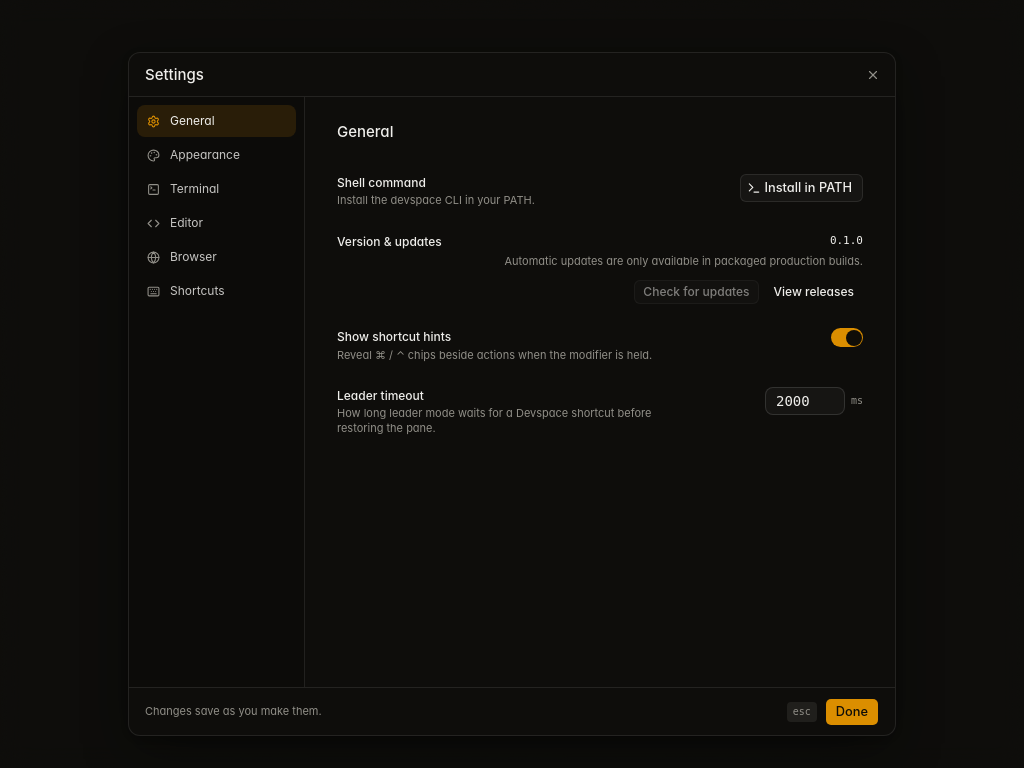
Scenario: shows the resolved VS Code CLI path in settings
Click the button "Editor" at {"x": 216, "y": 223}, box [137,207,296,239]
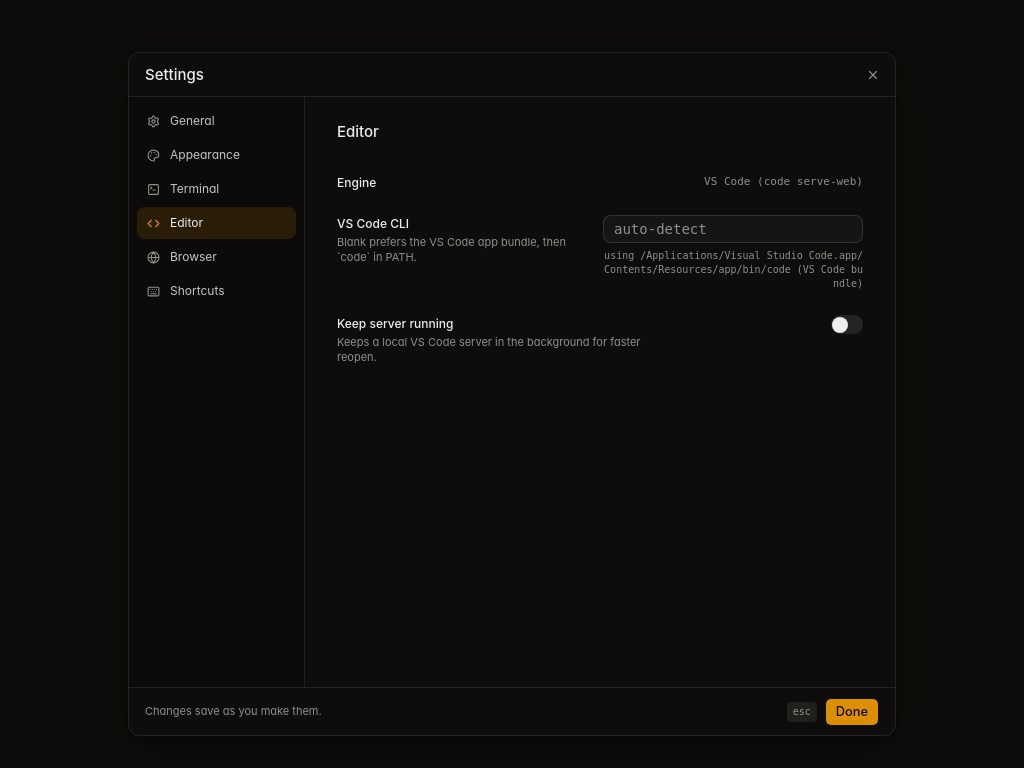
Result: the text "using /Applications/Visual Studio Code.app/Contents/Resources/app/bin/code (VS Code bundle)" is shown at [603,249,863,291]
